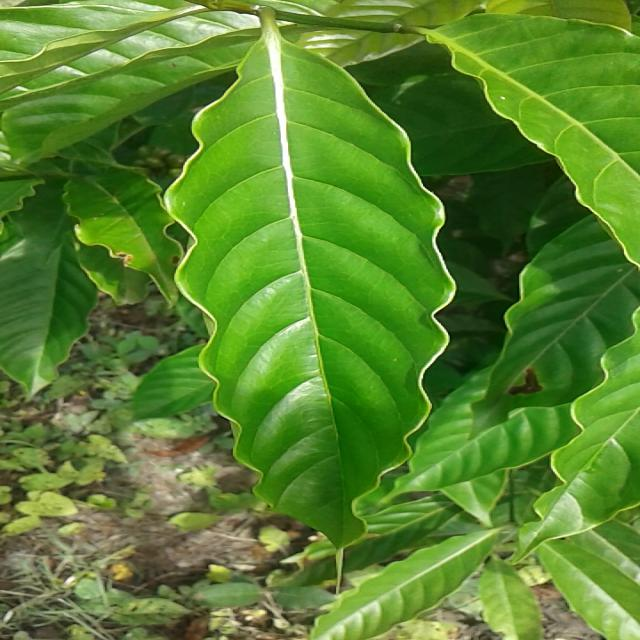Sanas: (160, 6, 457, 554)
